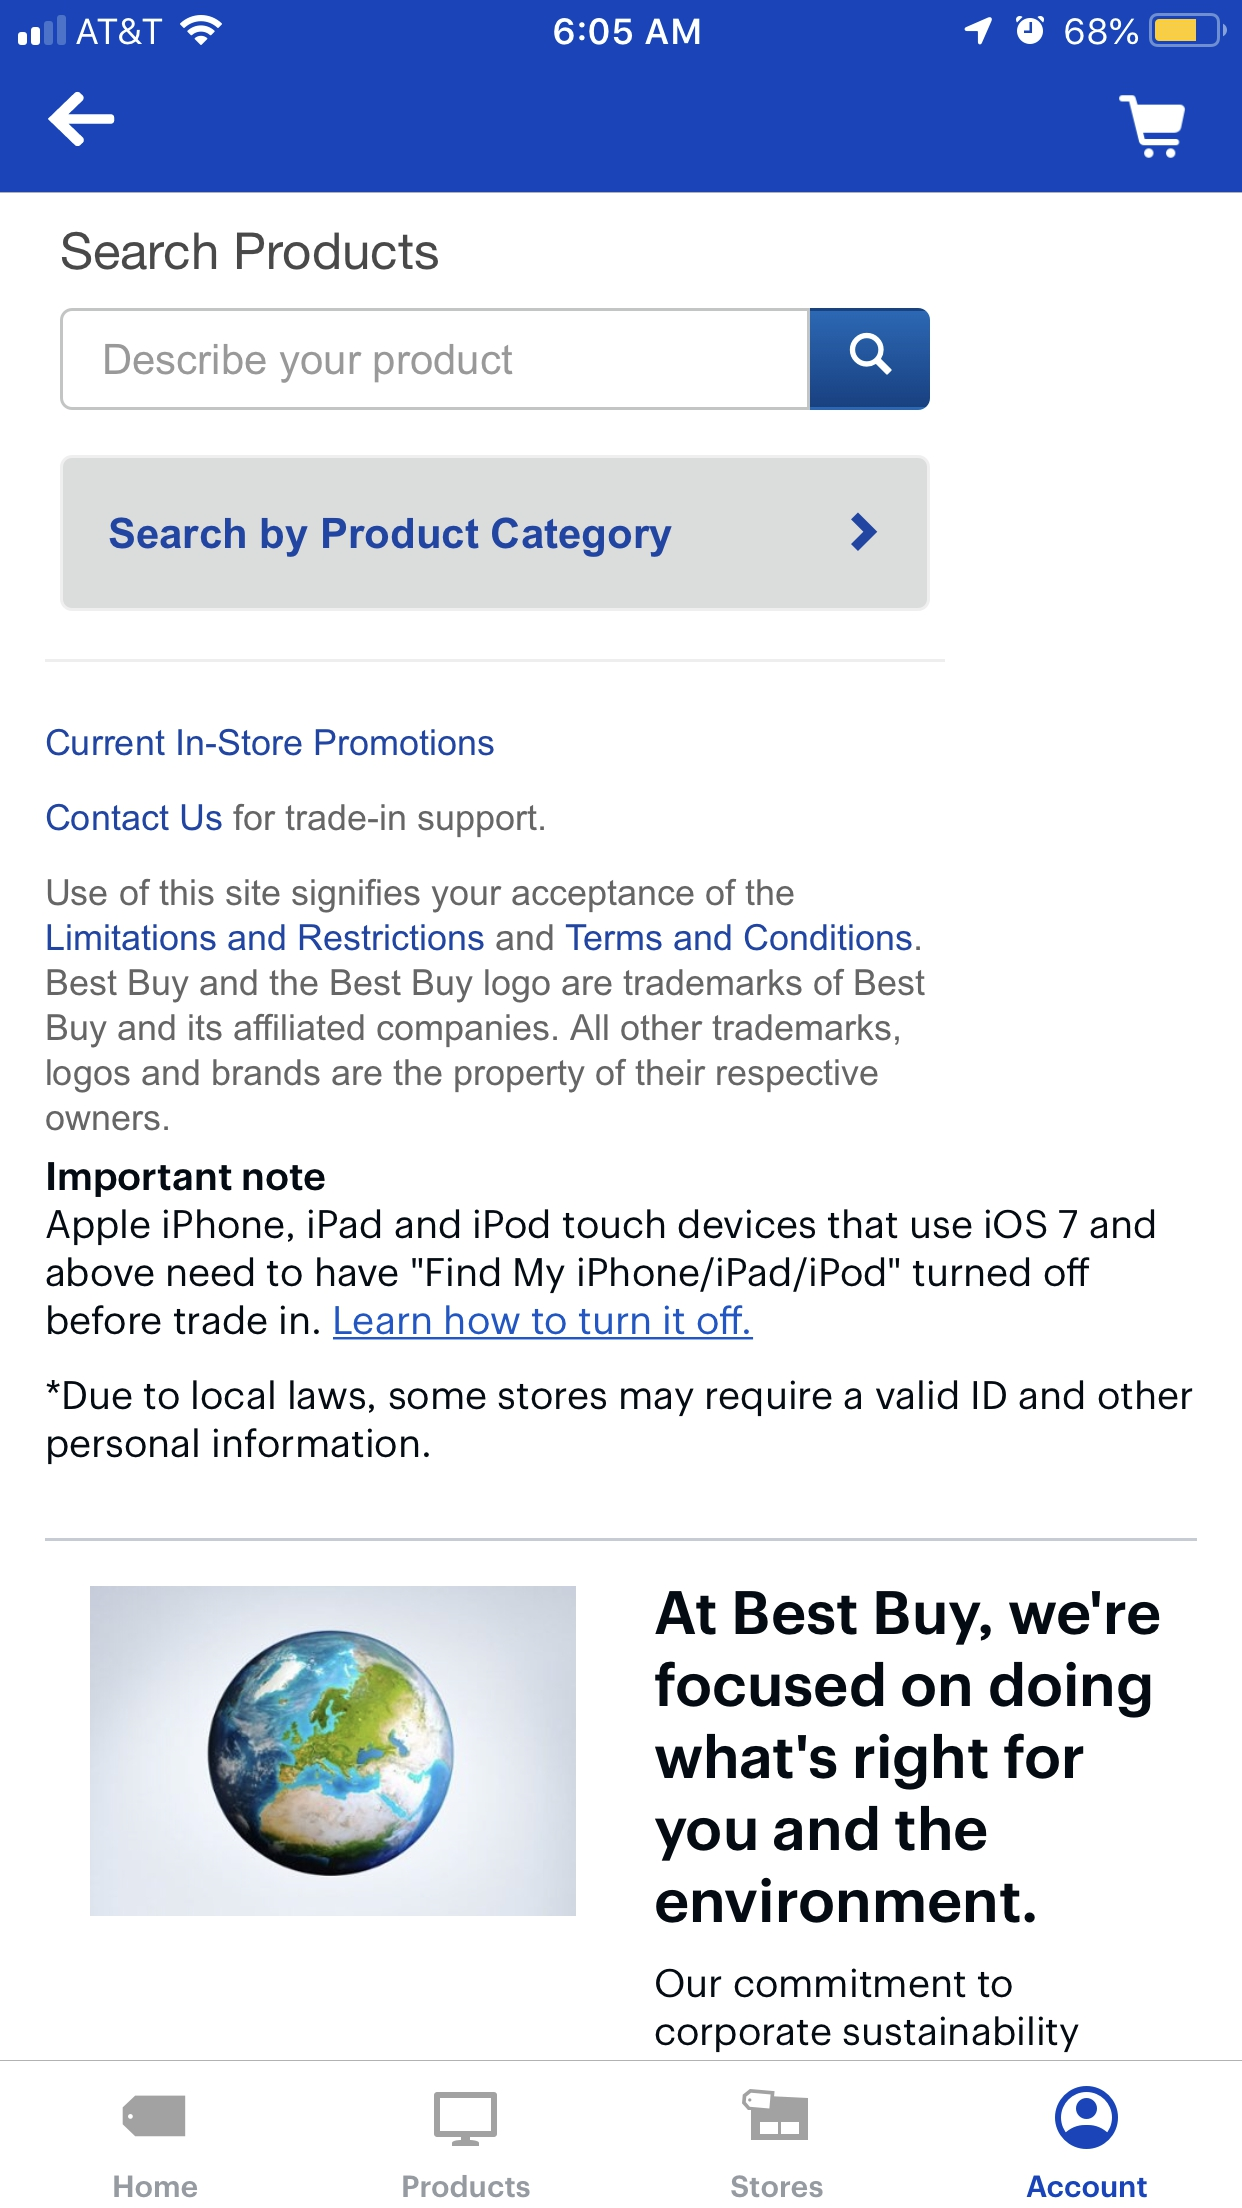EditText: (61, 309, 931, 412)
Icon: (1118, 96, 1186, 161), (1054, 2085, 1119, 2150), (49, 93, 115, 149), (434, 2093, 497, 2147), (742, 2090, 808, 2141), (123, 2094, 187, 2137), (849, 334, 893, 378), (851, 513, 878, 552)
Image: (91, 1586, 576, 1917)
Text: (45, 878, 927, 1131), (654, 1589, 1160, 1924), (45, 1209, 1156, 1341), (47, 1378, 1193, 1465), (655, 1967, 1080, 2053), (109, 517, 673, 560), (45, 804, 544, 839), (105, 344, 514, 384), (61, 232, 438, 271), (47, 728, 494, 757), (47, 1162, 325, 1197), (403, 2175, 531, 2197), (1027, 2175, 1148, 2197), (731, 2175, 823, 2197), (114, 2175, 199, 2197)
UpperTaskBar: (2, 2, 1242, 49)
